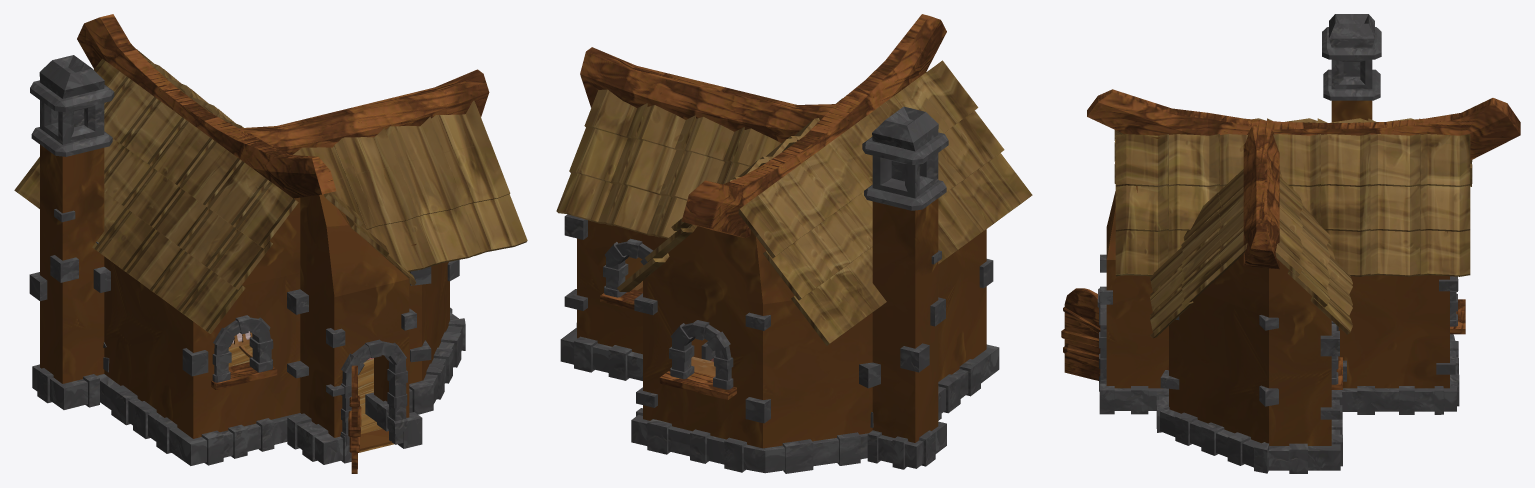
Rendered from House.fbx.
The picture shows the model from 3 angles, left to right: view 1: azimuth 30°, elevation 25°; view 2: azimuth 150°, elevation 25°; view 3: azimuth 270°, elevation 25°; orthographic projection. The views are drawn at different scales.
Visible parts, largest first — view 1: House_exterior, Roof, Rocks_windows, Roof_trunk, Ground_Rocks, Door, Window_shelf, House_interior; view 2: House_exterior, Roof, Roof_trunk, Rocks_windows, Ground_Rocks, Window_shelf; view 3: Roof, House_exterior, Roof_trunk, Ground_Rocks, Rocks_windows, Door, Window_shelf.
Boxes of the visible parts, <box> form: House_exterior: <box>40,145,449,450</box>; Roof: <box>14,49,527,333</box>; Rocks_windows: <box>29,55,459,445</box>; Roof_trunk: <box>77,14,489,198</box>; Ground_Rocks: <box>32,307,465,465</box>; Door: <box>348,365,361,473</box>; Window_shelf: <box>211,362,277,389</box>; House_interior: <box>347,220,393,452</box>; House_exterior: <box>577,198,986,448</box>; Roof: <box>556,60,1032,345</box>; Roof_trunk: <box>580,14,946,237</box>; Rocks_windows: <box>564,106,993,427</box>; Ground_Rocks: <box>560,323,999,473</box>; Window_shelf: <box>600,289,736,399</box>; Roof: <box>1114,118,1472,338</box>; House_exterior: <box>1106,100,1449,445</box>; Roof_trunk: <box>1087,89,1520,269</box>; Ground_Rocks: <box>1099,334,1459,473</box>; Rocks_windows: <box>1097,14,1458,419</box>; Door: <box>1061,288,1100,380</box>; Window_shelf: <box>1331,299,1465,389</box>.
Bounding box in the file's own units: 833 × 674 × 929.
